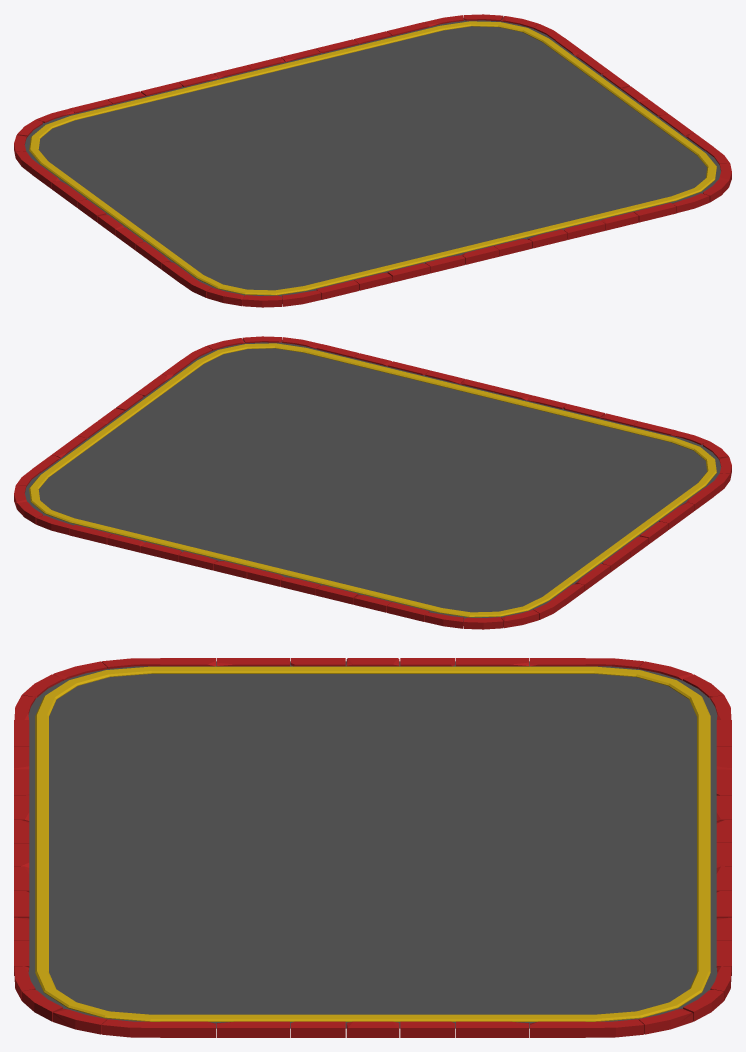
Rendered from SM_road_02.fbx.
3 renders of one model, top to bottom at view 1: azimuth 30°, elevation 25°; view 2: azimuth 150°, elevation 25°; view 3: azimuth 270°, elevation 25°, orthographic. The views are drawn at different scales.
Parts seen in each view (by area): view 1: Object32368; view 2: Object32368; view 3: Object32368.
Part boxes in pixels (x1=…): Object32368: x1=14, y1=14, x2=731, y2=307; Object32368: x1=14, y1=336, x2=731, y2=629; Object32368: x1=14, y1=658, x2=731, y2=1037.
Size of the model in its own units: 782 by 9.91 by 641.
